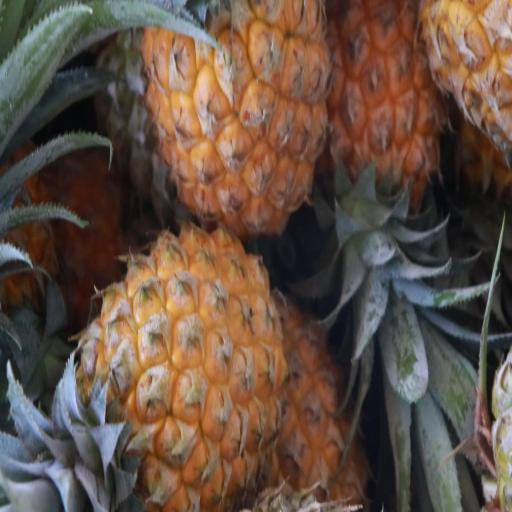Pineapple - v8 v1: (71, 230, 291, 512), (149, 0, 327, 235), (328, 0, 457, 247)
